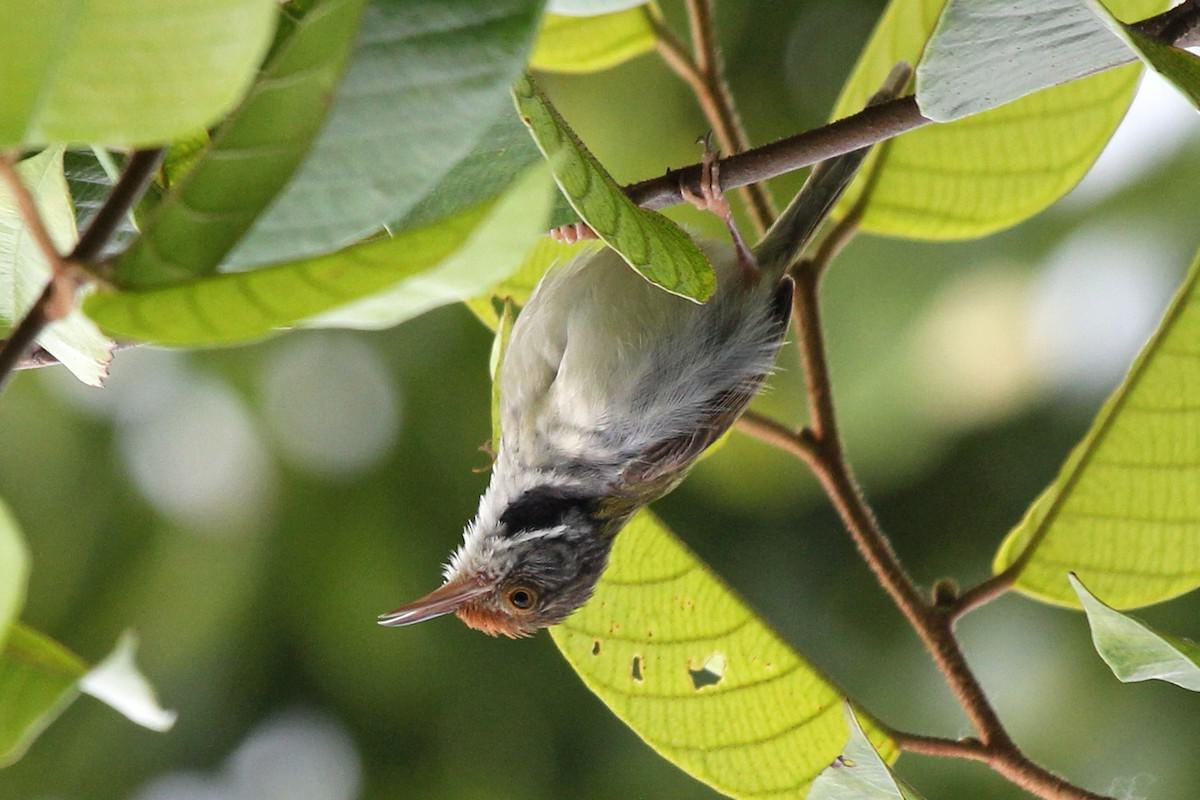tailorbird: (336, 64, 864, 711)
